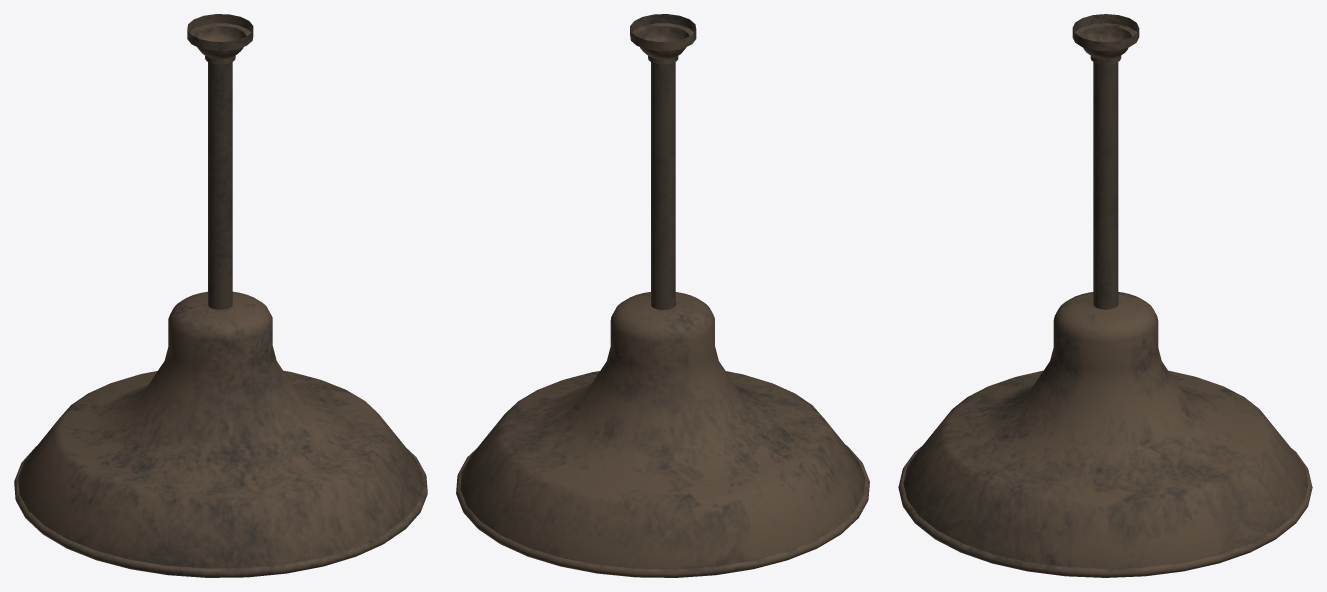
The model's file is SM_Lighting_2.fbx.
The picture shows the model from 3 angles, left to right: view 1: azimuth 30°, elevation 25°; view 2: azimuth 150°, elevation 25°; view 3: azimuth 270°, elevation 25°; orthographic projection.
Visible parts, largest first — view 1: SM_Lighting_2; view 2: SM_Lighting_2; view 3: SM_Lighting_2.
Part boxes in pixels (bbox=[...]): SM_Lighting_2: bbox=[14, 14, 427, 577]; SM_Lighting_2: bbox=[456, 14, 869, 577]; SM_Lighting_2: bbox=[898, 14, 1312, 577].
Size of the model in its own units: 44.01 by 44.01 by 54.37.
Materials: 1 (1 with a texture image).
